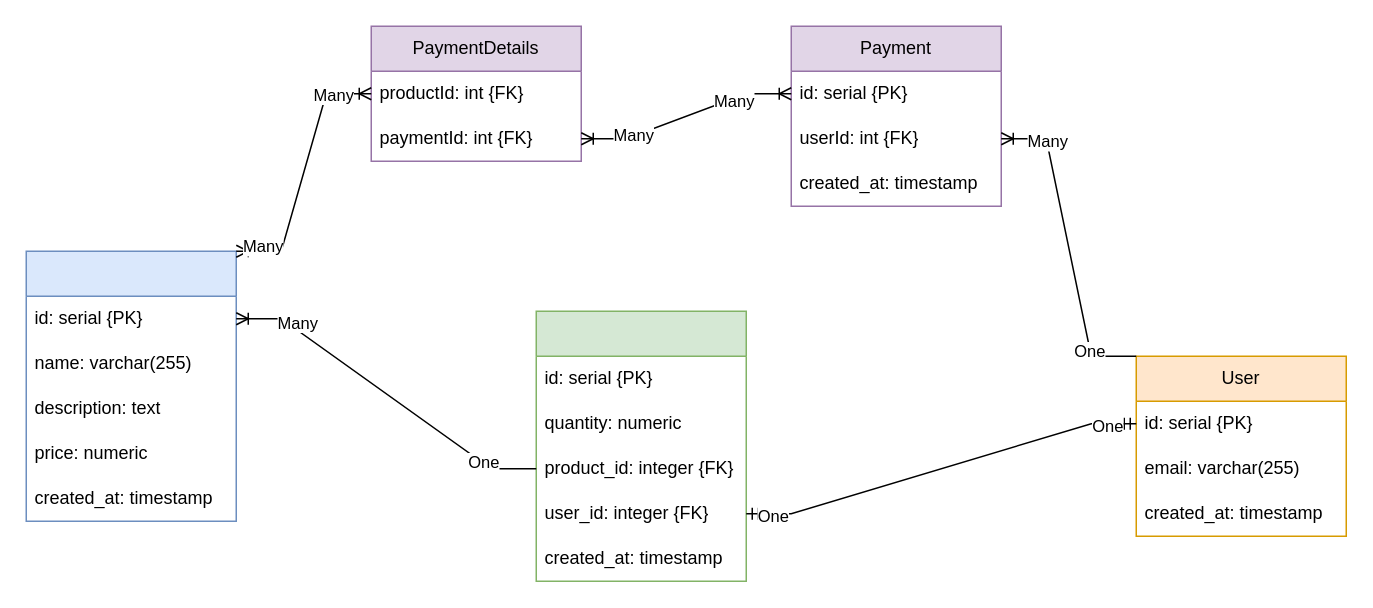
Image size: 1373x608. Some labels were removed from this diagram. The box of each missing label's shape, as (x1, y1, x2, y2) in pixels:
Cart: (535, 310, 746, 581)
Product: (25, 250, 236, 521)
